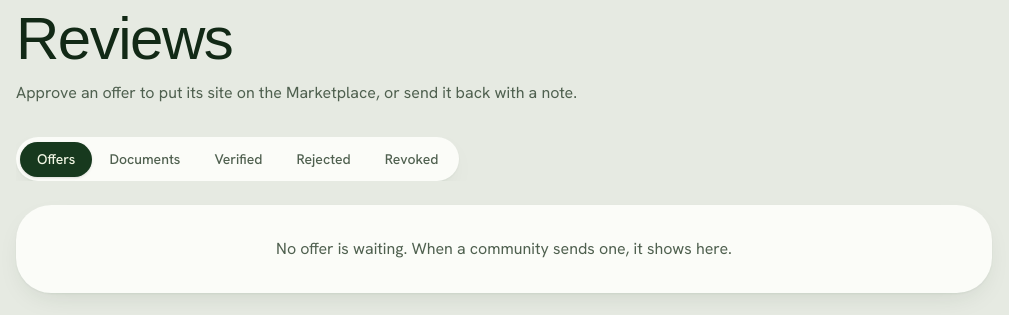
Test case: ReviewQueueScreen decided views (#211) › keeps the sandbox's address when switching views
Expected: the text "No offer is waiting" is shown, [276, 238, 732, 259]
Press the mouse on the tab "Documents" at (145, 159), box [92, 142, 198, 176]
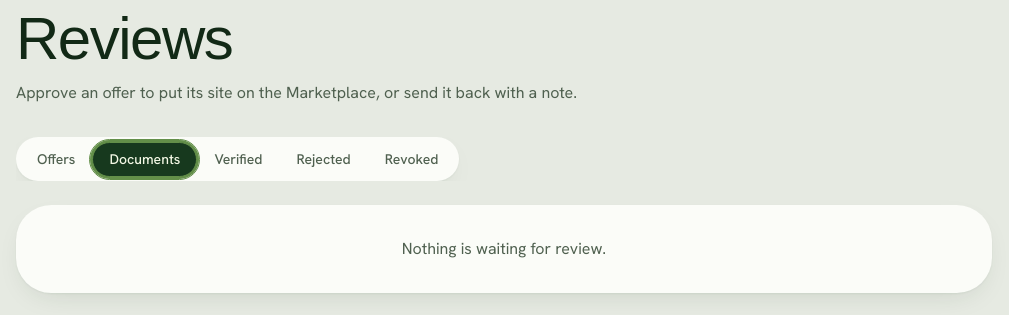
Result: the text "Nothing is waiting for review." is shown at [16, 205, 992, 293]
